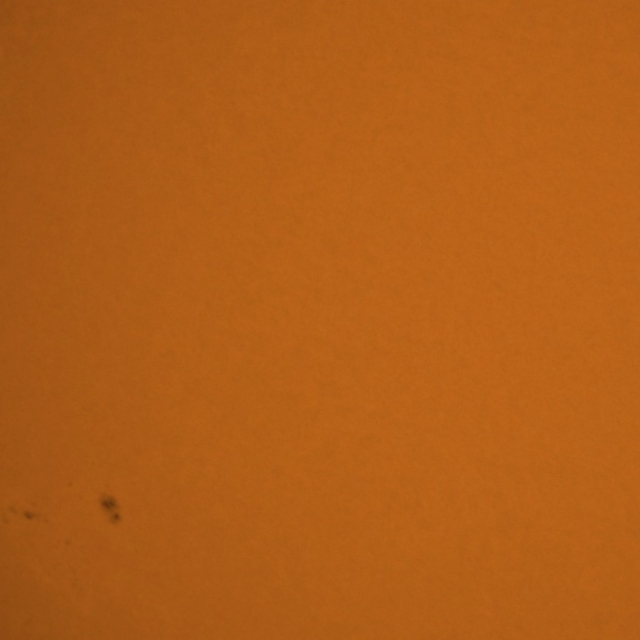sunspot: (98, 490, 123, 528)
